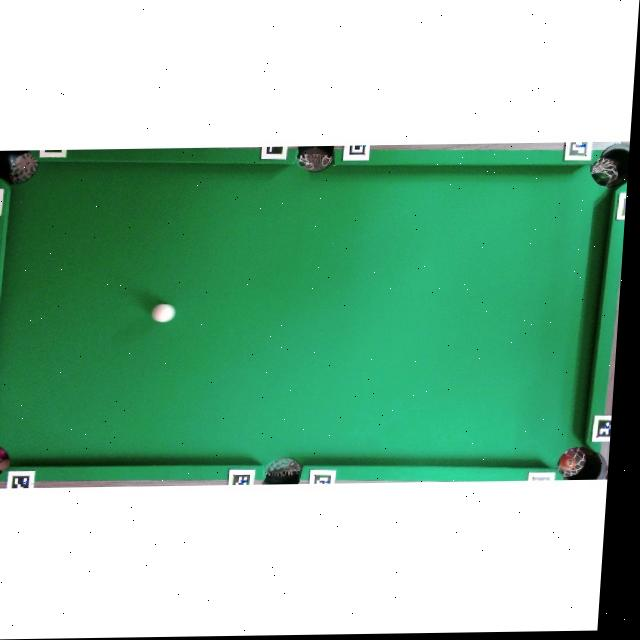cue ball: (149, 302, 177, 323)
